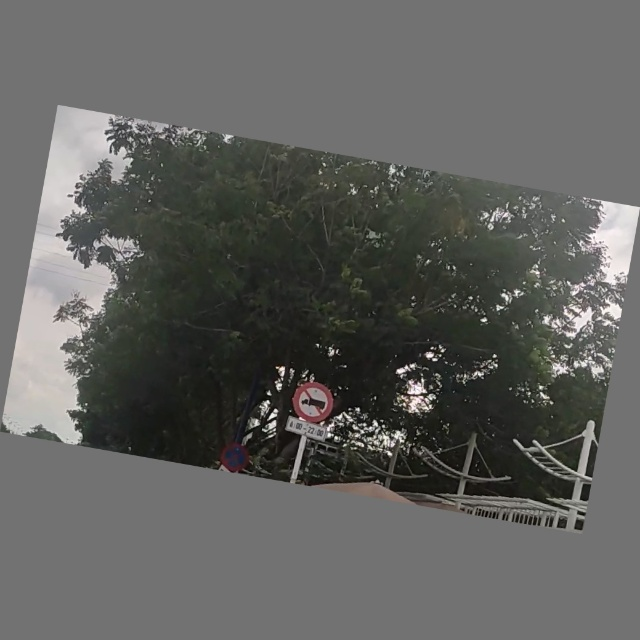B.8a: (286, 380, 336, 441)
P.130: (218, 442, 250, 472)
